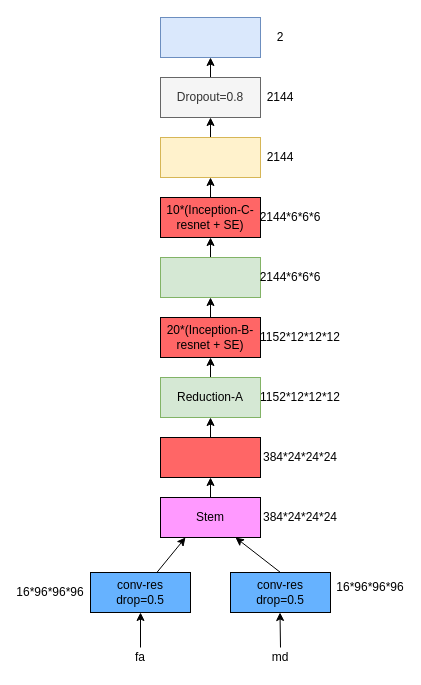
This 421x685 diagram has some shape labels left out. The shapes that lost their labels are listed below. From the top down, each one's centre as x and y in pixels, then its label:
At point 210,37: "Softmax".
At point 210,157: "Avarage Pooling".
At point 210,277: "Reduction-B".
At point 210,457: "10*(Inception-A-resnet + SE)".
